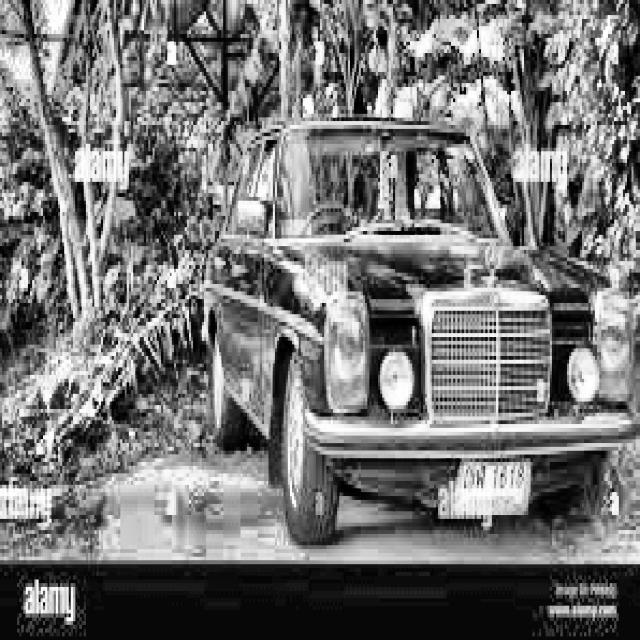license-plate: (450, 455, 532, 521)
